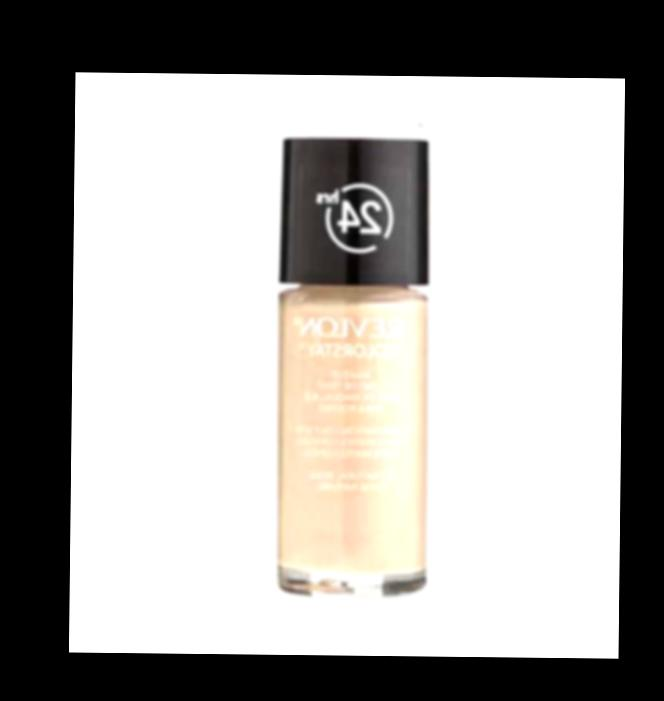cosmetic: (276, 139, 433, 594)
